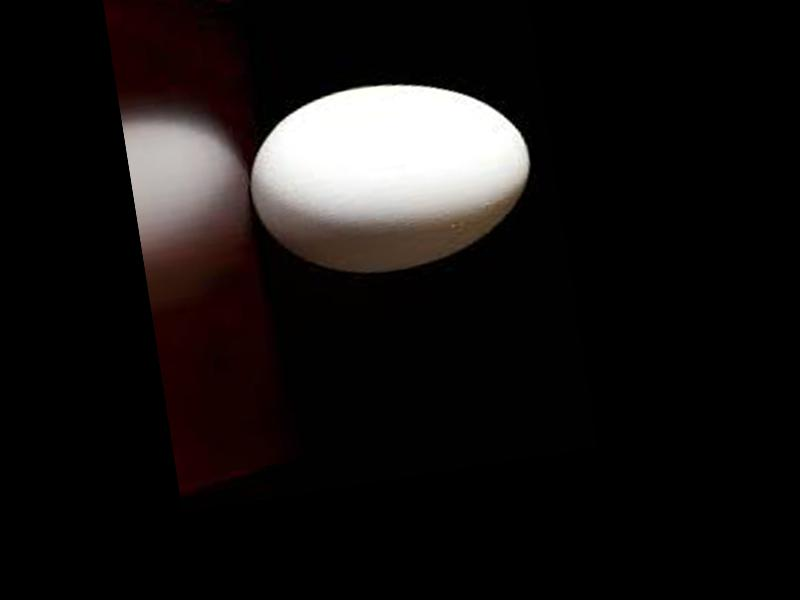Eggs: (237, 64, 542, 288)
